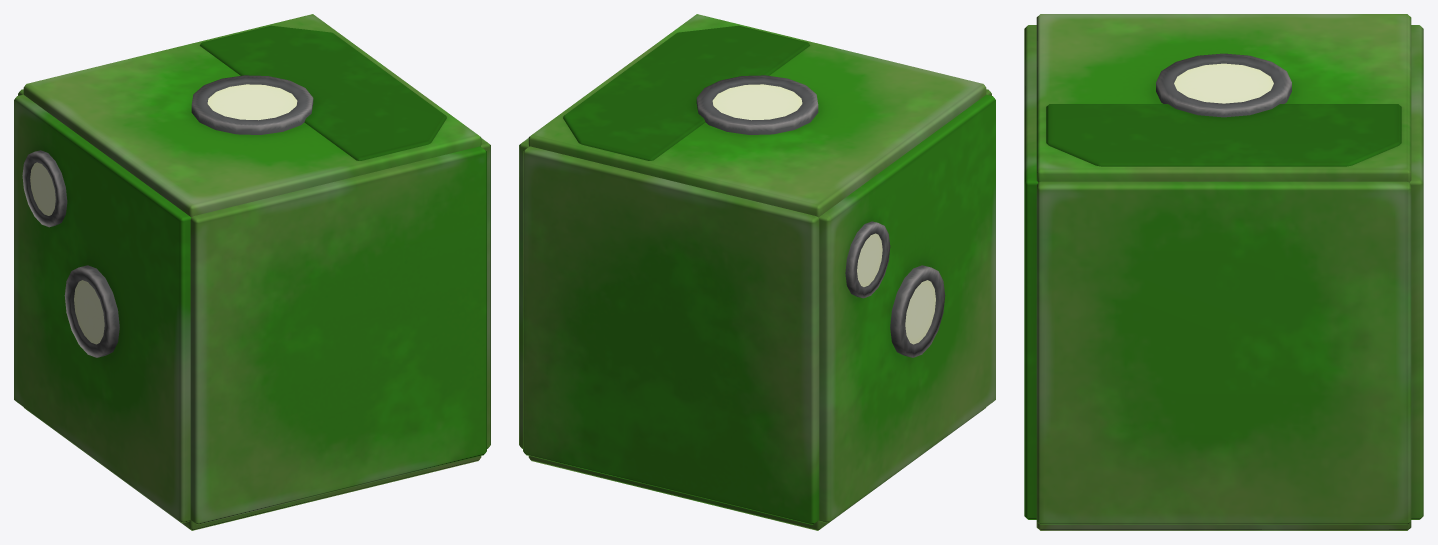
Rendered from LandingPoint_Green 1.fbx.
3 views of the same model, side by side, from view 1: azimuth 30°, elevation 25°; view 2: azimuth 150°, elevation 25°; view 3: azimuth 270°, elevation 25° (orthographic). The views are drawn at different scales.
Parts seen in each view (by area): view 1: StartingGreen; view 2: StartingGreen; view 3: StartingGreen.
Boxes of the visible parts, x1=… form: StartingGreen: x1=14, y1=14, x2=490, y2=530; StartingGreen: x1=519, y1=14, x2=995, y2=530; StartingGreen: x1=1024, y1=14, x2=1423, y2=530.
Bounding box in the file's own units: 206 × 205 × 200.
